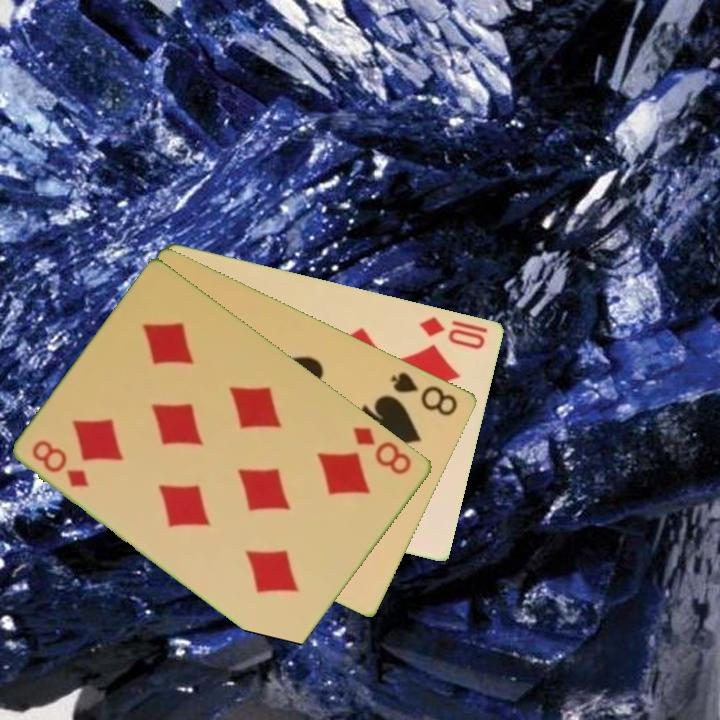10d: (416, 312, 491, 352)
8d: (349, 423, 415, 478), (29, 436, 93, 491)
8s: (388, 368, 462, 419)
